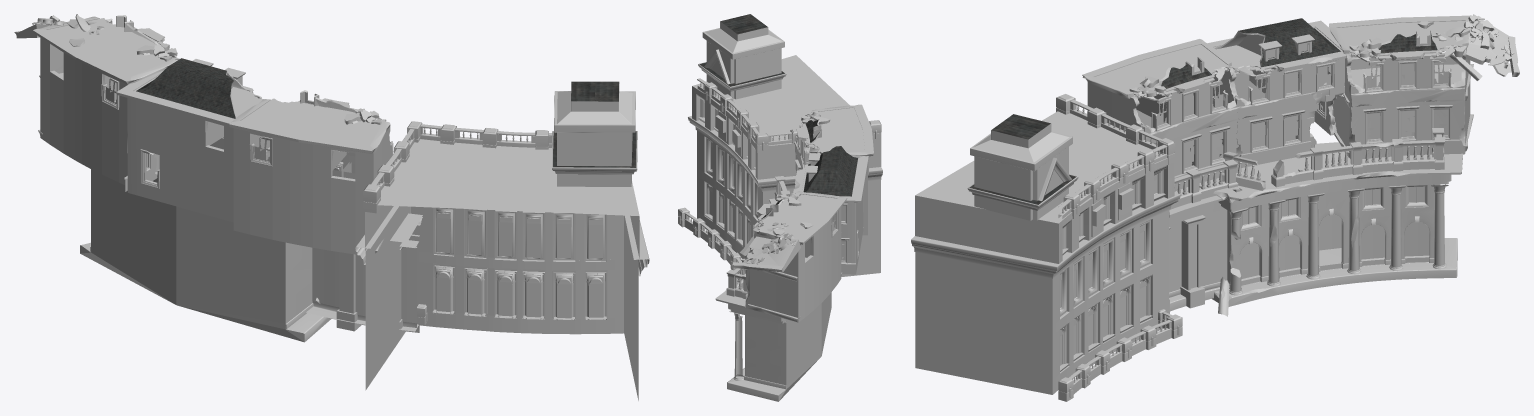
Rendered from Boss_Buildingb.fbx.
3 views of the same model, side by side, from view 1: azimuth 30°, elevation 25°; view 2: azimuth 150°, elevation 25°; view 3: azimuth 270°, elevation 25° (orthographic). The views are drawn at different scales.
Visible parts, largest first — view 1: LODGroup_1_MainMesh_1_SubMesh_7, LODGroup_1_MainMesh_1_SubMesh_4, LODGroup_1_MainMesh_1_SubMesh_5, LODGroup_1_MainMesh_1_SubMesh_3, LODGroup_1_MainMesh_1_SubMesh_6, LODGroup_1_MainMesh_1_SubMesh_2, LODGroup_1_MainMesh_1_SubMesh_1; view 2: LODGroup_1_MainMesh_1_SubMesh_7, LODGroup_1_MainMesh_1_SubMesh_4, LODGroup_1_MainMesh_1_SubMesh_5, LODGroup_1_MainMesh_1_SubMesh_6, LODGroup_1_MainMesh_1_SubMesh_2, LODGroup_1_MainMesh_1_SubMesh_1, LODGroup_1_MainMesh_1_SubMesh_8, LODGroup_1_MainMesh_1_SubMesh_3; view 3: LODGroup_1_MainMesh_1_SubMesh_7, LODGroup_1_MainMesh_1_SubMesh_5, LODGroup_1_MainMesh_1_SubMesh_4, LODGroup_1_MainMesh_1_SubMesh_8, LODGroup_1_MainMesh_1_SubMesh_3, LODGroup_1_MainMesh_1_SubMesh_2, LODGroup_1_MainMesh_1_SubMesh_1, LODGroup_1_MainMesh_1_SubMesh_6.
Part boxes in pixels (box(x1,y1,x2,y2)): LODGroup_1_MainMesh_1_SubMesh_7: box(32, 16, 646, 400); LODGroup_1_MainMesh_1_SubMesh_4: box(14, 14, 639, 253); LODGroup_1_MainMesh_1_SubMesh_5: box(32, 18, 649, 328); LODGroup_1_MainMesh_1_SubMesh_3: box(105, 78, 603, 318); LODGroup_1_MainMesh_1_SubMesh_6: box(136, 42, 636, 167); LODGroup_1_MainMesh_1_SubMesh_2: box(192, 59, 548, 338); LODGroup_1_MainMesh_1_SubMesh_1: box(54, 46, 391, 181); LODGroup_1_MainMesh_1_SubMesh_7: box(691, 21, 881, 401); LODGroup_1_MainMesh_1_SubMesh_4: box(692, 55, 873, 322); LODGroup_1_MainMesh_1_SubMesh_5: box(684, 50, 882, 389); LODGroup_1_MainMesh_1_SubMesh_6: box(699, 14, 857, 218); LODGroup_1_MainMesh_1_SubMesh_2: box(678, 82, 881, 273); LODGroup_1_MainMesh_1_SubMesh_1: box(749, 116, 863, 310); LODGroup_1_MainMesh_1_SubMesh_8: box(685, 82, 791, 380); LODGroup_1_MainMesh_1_SubMesh_3: box(708, 142, 845, 260); LODGroup_1_MainMesh_1_SubMesh_7: box(912, 15, 1514, 394); LODGroup_1_MainMesh_1_SubMesh_5: box(911, 15, 1470, 394); LODGroup_1_MainMesh_1_SubMesh_4: box(915, 14, 1519, 314); LODGroup_1_MainMesh_1_SubMesh_8: box(1062, 103, 1448, 382); LODGroup_1_MainMesh_1_SubMesh_3: box(1060, 43, 1448, 365); LODGroup_1_MainMesh_1_SubMesh_2: box(1056, 34, 1314, 401); LODGroup_1_MainMesh_1_SubMesh_1: box(1091, 48, 1469, 165); LODGroup_1_MainMesh_1_SubMesh_6: box(969, 18, 1437, 204).
Bounding box in the file's own units: 4498 × 2968 × 6623.
